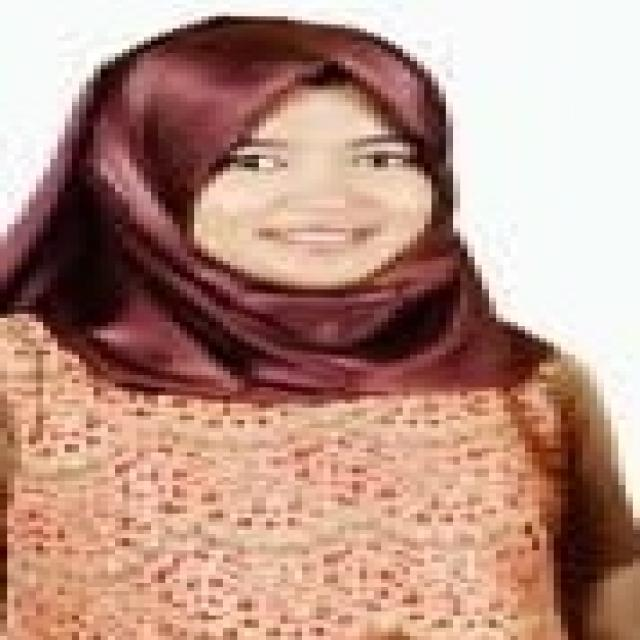head: (102, 16, 460, 296)
